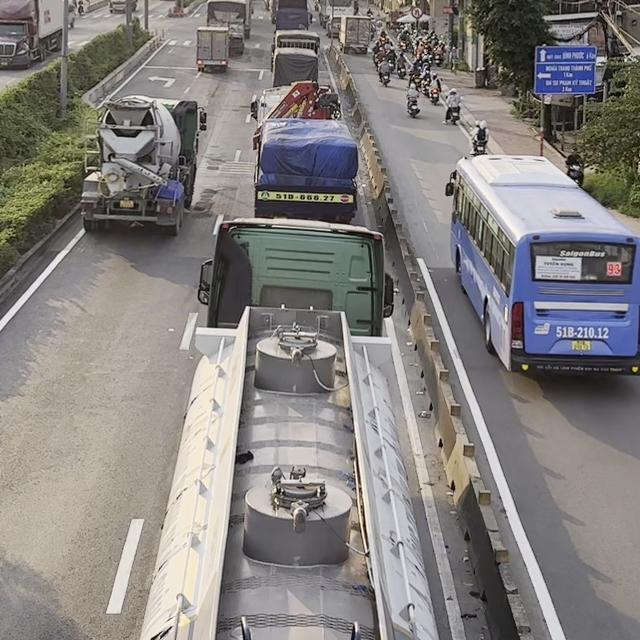bus: (445, 152, 639, 375)
motorcycle: (565, 153, 584, 187), (445, 95, 464, 125), (470, 127, 488, 155), (405, 92, 420, 118), (377, 69, 391, 88), (428, 85, 440, 105), (397, 64, 406, 78)
truck: (136, 214, 442, 640), (79, 93, 207, 236), (250, 80, 359, 223), (206, 0, 247, 56), (195, 25, 230, 72), (338, 14, 373, 54)
